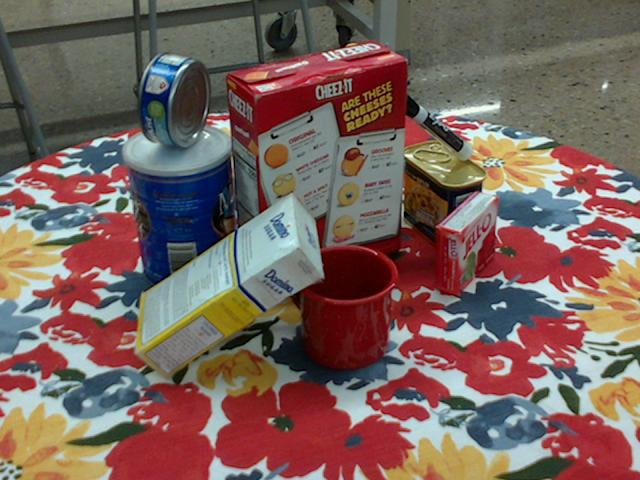cracker_box: (225, 42, 409, 295)
gelatin_box: (434, 190, 498, 295)
large_marker: (393, 92, 473, 159)
master_chef_can: (124, 123, 237, 296)
mug: (289, 242, 398, 369)
mustard_bottle: (325, 44, 388, 224)
potted_meat_can: (402, 141, 487, 250)
sugar_box: (133, 194, 324, 381)
tomato_soup_can: (240, 113, 303, 220)
tuna_fish_can: (138, 52, 209, 147)
